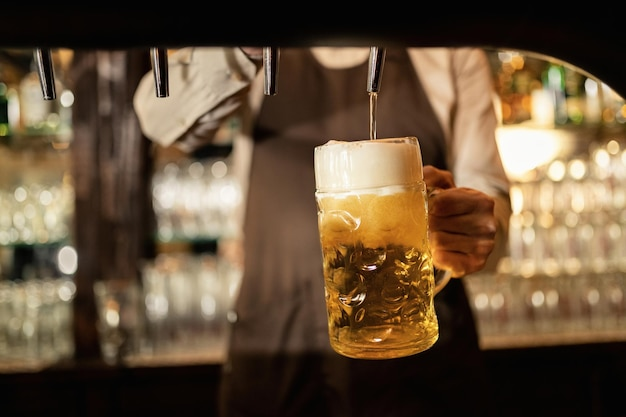alcohol: (312, 136, 459, 362)
